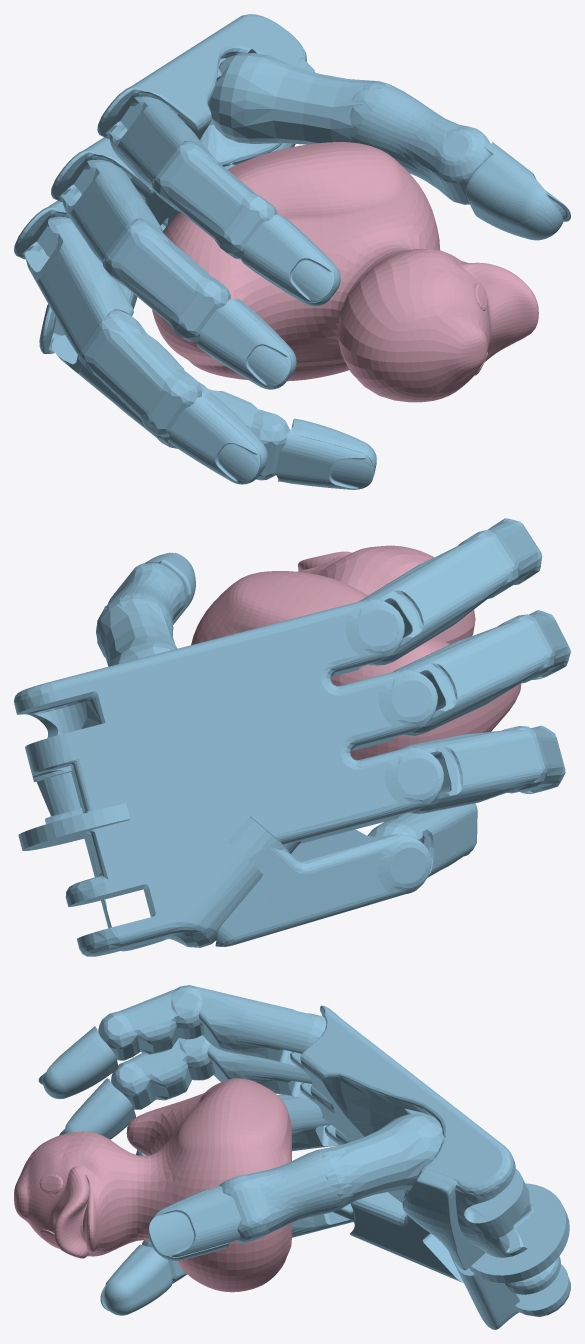
3 views of the same model, one above another, from view 1: azimuth 30°, elevation 25°; view 2: azimuth 150°, elevation 25°; view 3: azimuth 270°, elevation 25° (orthographic). The views are drawn at different scales.
Visible parts, largest first — view 1: world, rubber_duck.stl; view 2: world, rubber_duck.stl; view 3: world, rubber_duck.stl.
Boxes of the visible parts, box(x1,y1,x2,y2) form: world: box(14, 14, 570, 489); rubber_duck.stl: box(152, 142, 538, 402); world: box(14, 518, 570, 956); rubber_duck.stl: box(191, 545, 521, 759); world: box(38, 985, 570, 1329); rubber_duck.stl: box(14, 1078, 291, 1292).
Bounding box in the file's own units: 0.1442 × 0.1058 × 0.1922.
